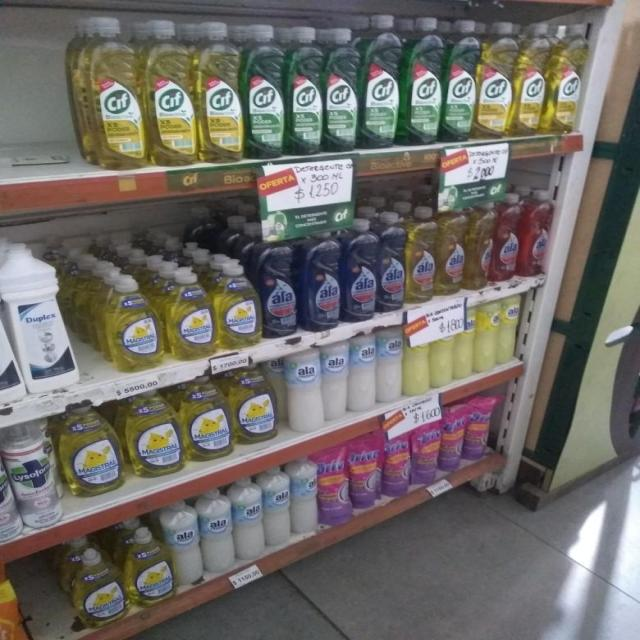ala_conc_amarillo: (407, 205, 436, 303), (438, 202, 466, 298)
ala_conc_azul: (261, 229, 299, 338), (301, 228, 341, 331), (343, 218, 377, 322), (378, 210, 406, 312)
ala_conc_rojo: (522, 189, 555, 278), (466, 198, 494, 290), (494, 192, 521, 284)
ala_crem_amarillo: (499, 294, 522, 364), (476, 300, 497, 374), (456, 305, 474, 378)
ala_crem_blanco: (284, 348, 322, 432), (168, 499, 200, 588), (200, 488, 232, 574), (233, 476, 263, 562), (291, 455, 318, 536), (349, 333, 376, 413), (264, 466, 290, 549), (323, 342, 347, 422)
cif_conc_bot_amarilla: (74, 15, 143, 172), (146, 19, 196, 167), (197, 21, 241, 164), (549, 23, 588, 135), (478, 20, 514, 140), (515, 22, 547, 137)
cif_conc_botella_verde: (243, 23, 284, 160), (362, 14, 402, 150), (404, 16, 443, 146), (287, 25, 323, 156), (325, 25, 359, 153), (444, 19, 476, 142)
magistral_con_amarillo: (59, 402, 122, 498), (104, 273, 162, 373), (126, 388, 181, 478), (167, 266, 214, 360), (183, 374, 230, 462), (73, 547, 124, 627), (216, 259, 260, 350), (126, 526, 171, 608), (232, 365, 278, 445)
